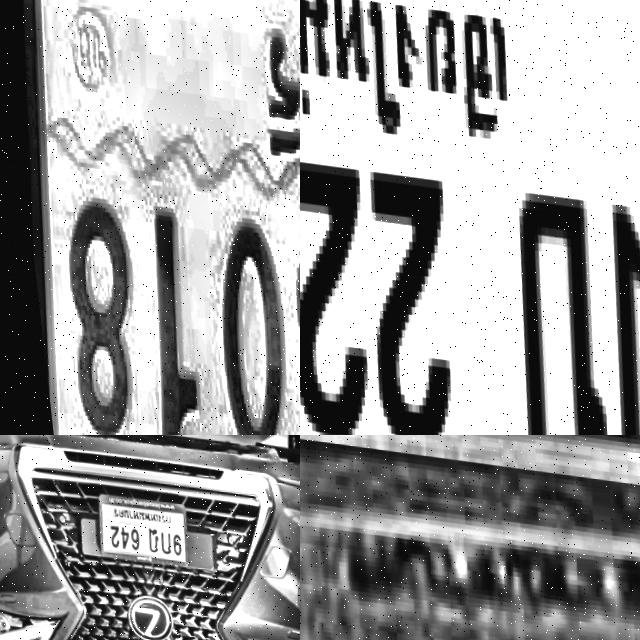license-plate: (300, 0, 640, 435), (0, 0, 300, 435), (300, 435, 640, 640), (87, 488, 186, 558)
